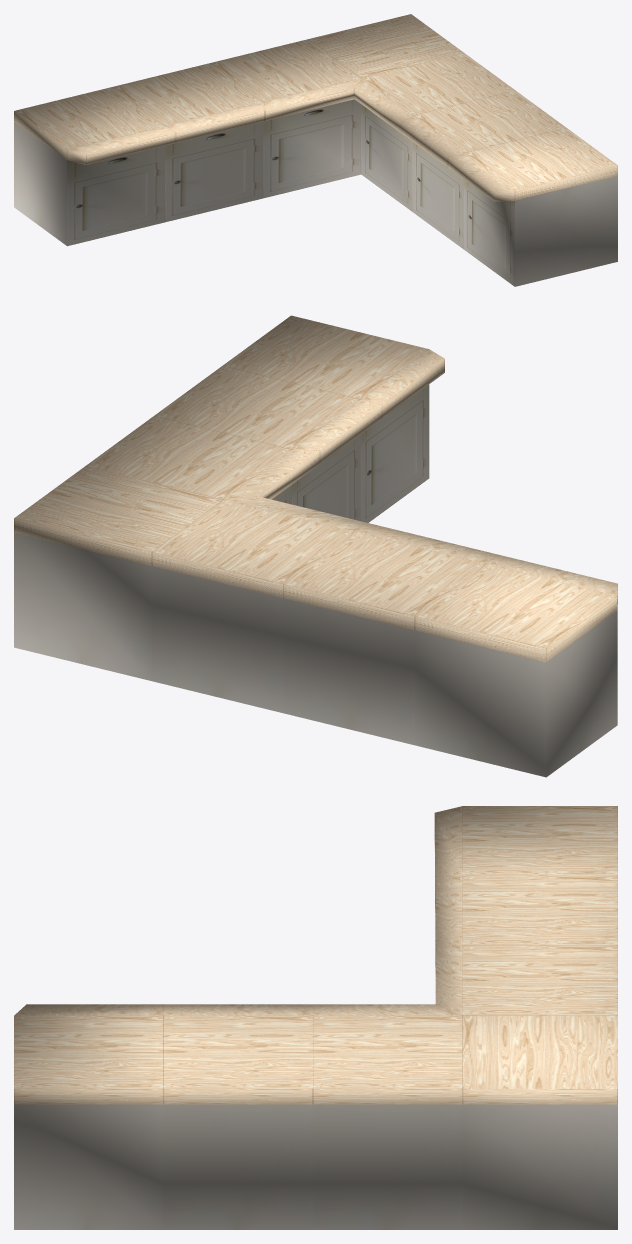
File: kitchen_cabinet_bot.fbx
3 views of the same model, one above another, from view 1: azimuth 30°, elevation 25°; view 2: azimuth 150°, elevation 25°; view 3: azimuth 270°, elevation 25° (orthographic). The views are drawn at different scales.
Parts seen in each view (by area): view 1: kitchen_cabinet_bot; view 2: kitchen_cabinet_bot; view 3: kitchen_cabinet_bot.
Boxes of the visible parts, <box> form: kitchen_cabinet_bot: <box>14,14,617,286</box>; kitchen_cabinet_bot: <box>14,315,617,777</box>; kitchen_cabinet_bot: <box>14,806,617,1229</box>.
Size of the model in its own units: 522 by 121 by 471.
1 material, 1 textured.
